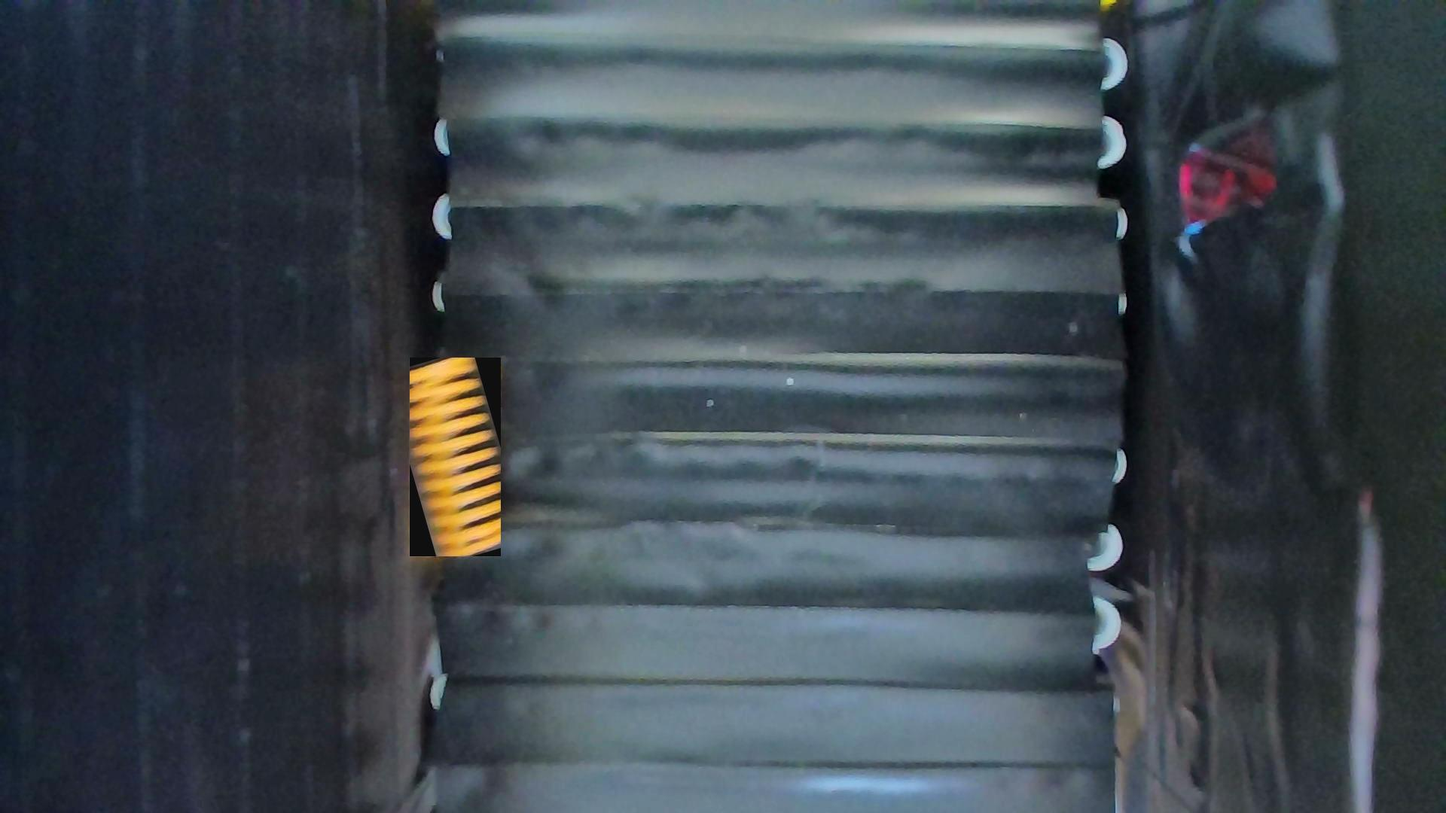spring: (408, 358, 500, 558)
